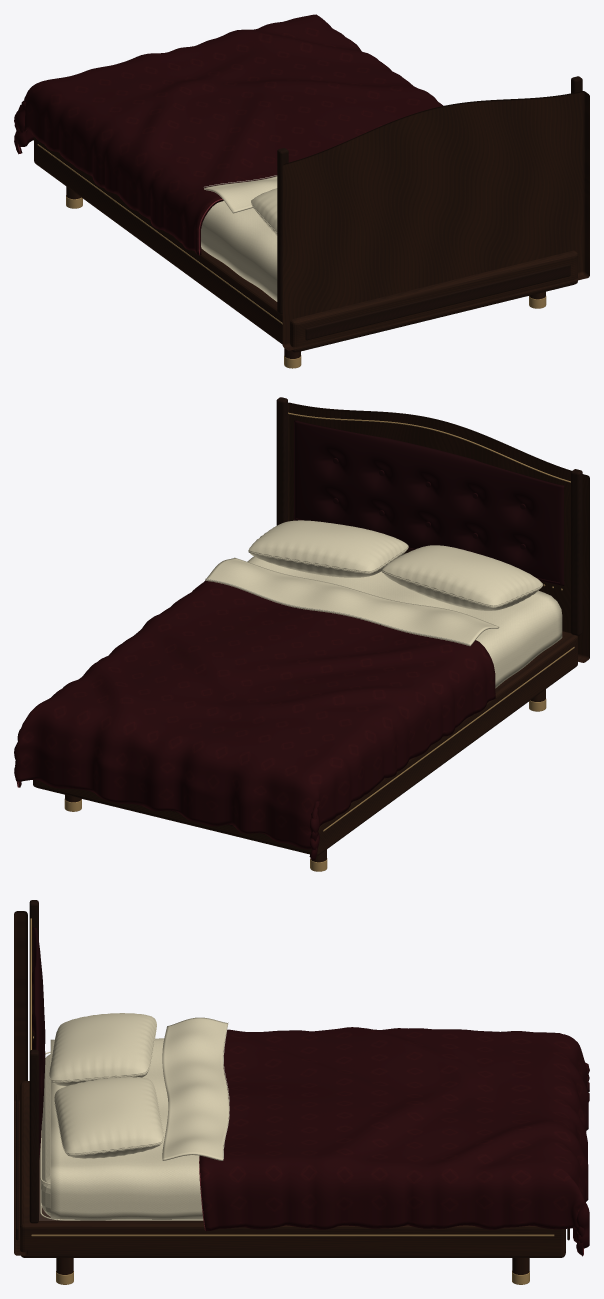
The model's file is bed-316.glb.
3 renders of one model, top to bottom at view 1: azimuth 30°, elevation 25°; view 2: azimuth 150°, elevation 25°; view 3: azimuth 270°, elevation 25°, orthographic. The views are drawn at different scales.
Visible parts, largest first — view 1: Bed316_StaticMesh; view 2: Bed316_StaticMesh; view 3: Bed316_StaticMesh.
Part boxes in pixels (x1,y1,x2,y2): Bed316_StaticMesh: [14, 14, 589, 368]; Bed316_StaticMesh: [14, 397, 589, 871]; Bed316_StaticMesh: [14, 900, 589, 1284].
Size of the model in its own units: 1.98 by 1.5 by 3.12.
9 materials, 5 textured.
